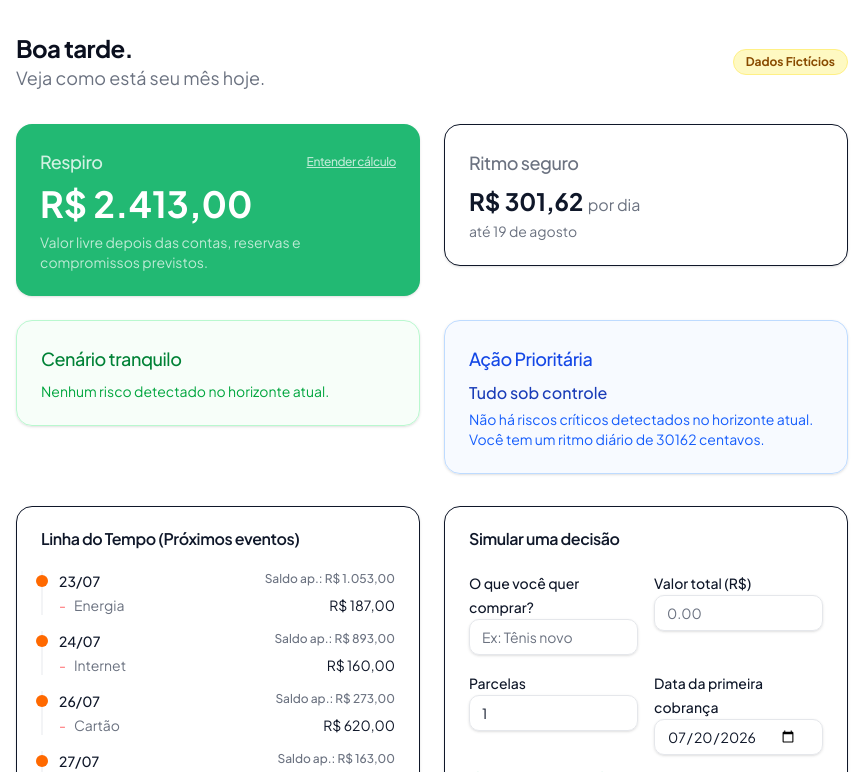
Test: TodayDashboardPrototype (Decision Engine Integration) › 6. Simulação de compra parcelada alterando corretamente o cenário
The width and height of the screenshot is (865, 772).
Type "300" into the number field labelled "Valor total (R$)" at (738, 613), box [654, 595, 823, 631]
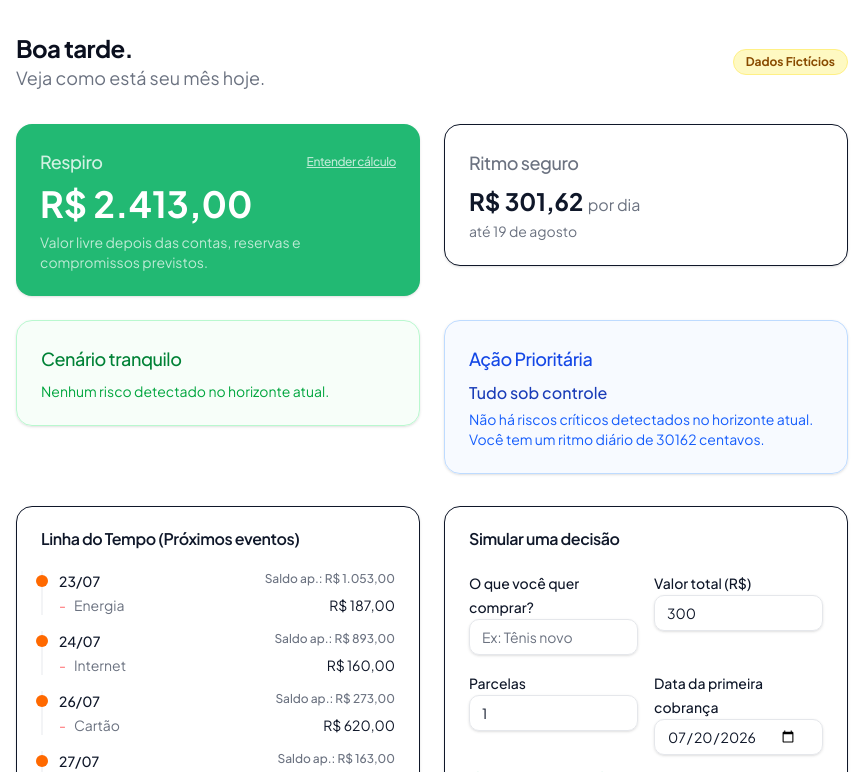
Replace the text in the number field labelled "Parcelas" with "3" at (554, 713), box [469, 695, 638, 731]
(page scrolled)
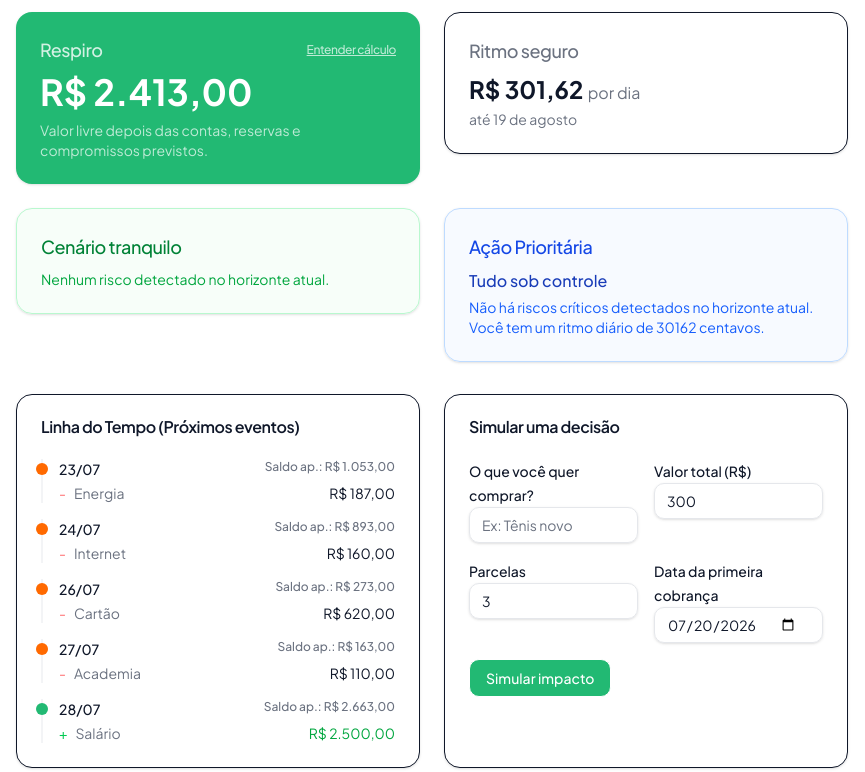
Click the button "Simular impacto" at (540, 678), box [469, 659, 611, 697]
(page scrolled)
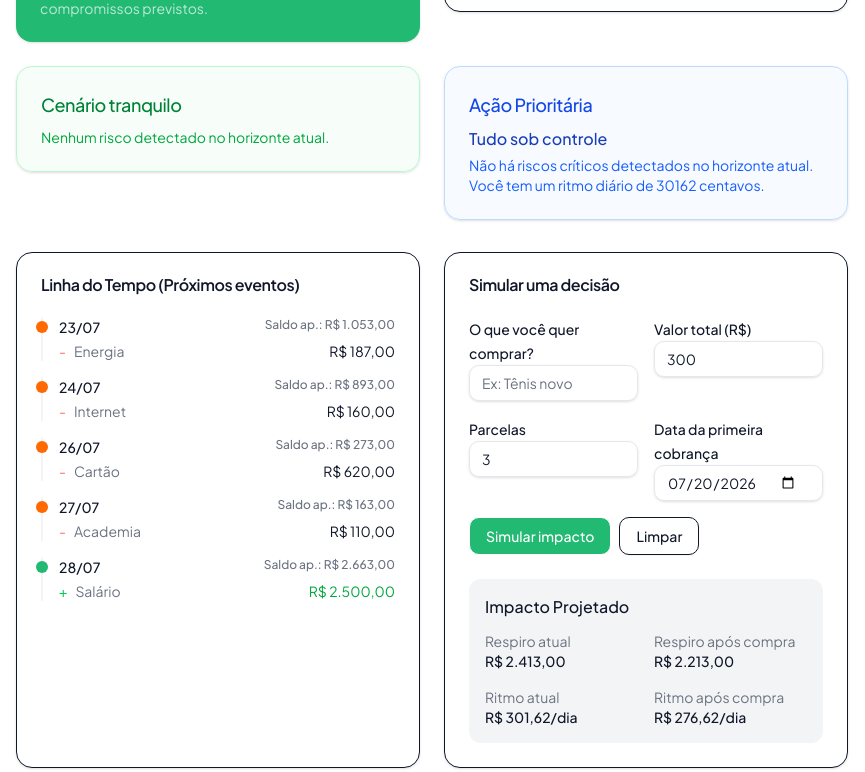
Now the heading "Impacto Projetado" is shown, box [485, 596, 629, 617]
Now the text "R$ 2.213,00" is shown, box [654, 652, 734, 670]
